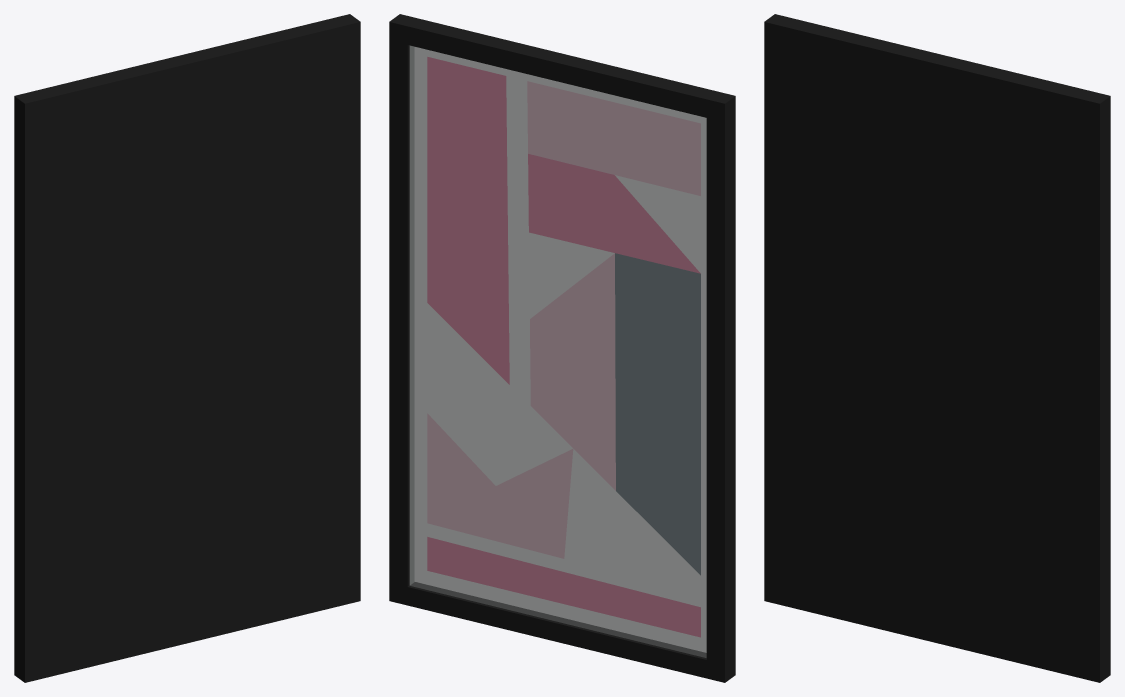
File: WallArt03.glb
The picture shows the model from 3 angles, left to right: view 1: azimuth 30°, elevation 25°; view 2: azimuth 150°, elevation 25°; view 3: azimuth 330°, elevation 25°; orthographic projection.
Parts seen in each view (by area): view 1: Node; view 2: Node; view 3: Node.
Part boxes in pixels (<box>): Node: <box>14,14,360,682</box>; Node: <box>389,14,735,682</box>; Node: <box>764,14,1110,682</box>.
Size of the model in its own units: 0.54 by 0.89 by 0.03.
Materials: 2 (2 with a texture image).
